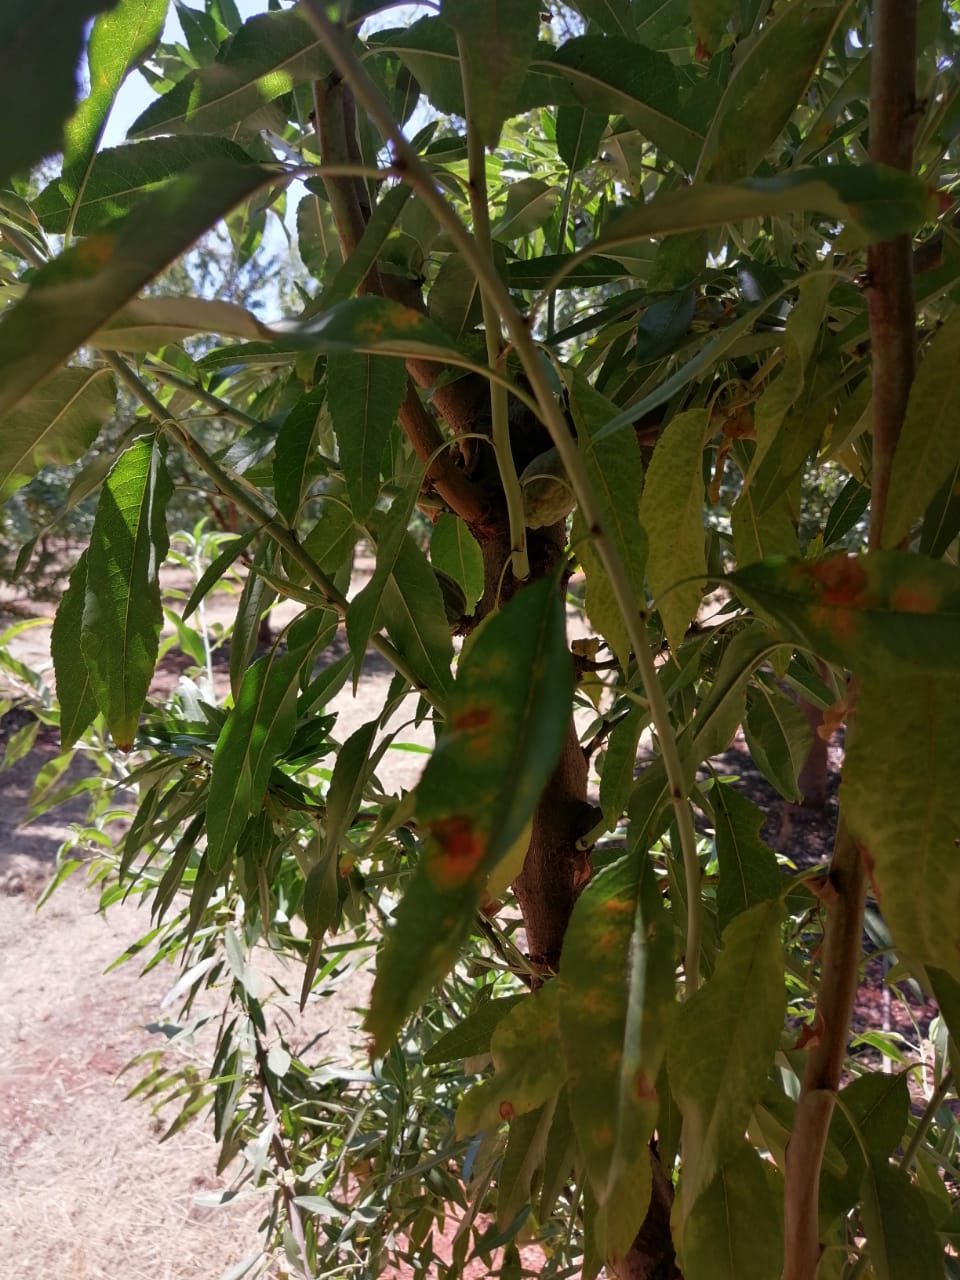polystigma: (360, 572, 574, 1057), (556, 850, 676, 1280), (651, 549, 960, 685)
